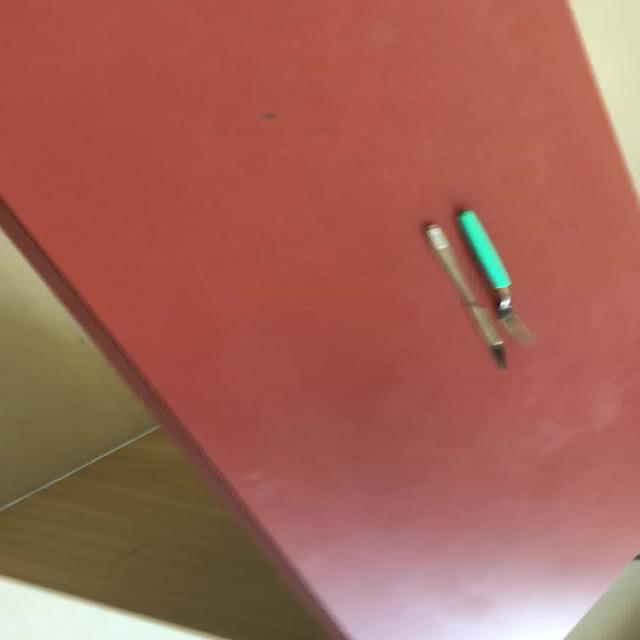fork: (420, 219, 507, 369)
knife fork: (420, 218, 507, 368), (452, 204, 534, 346)
